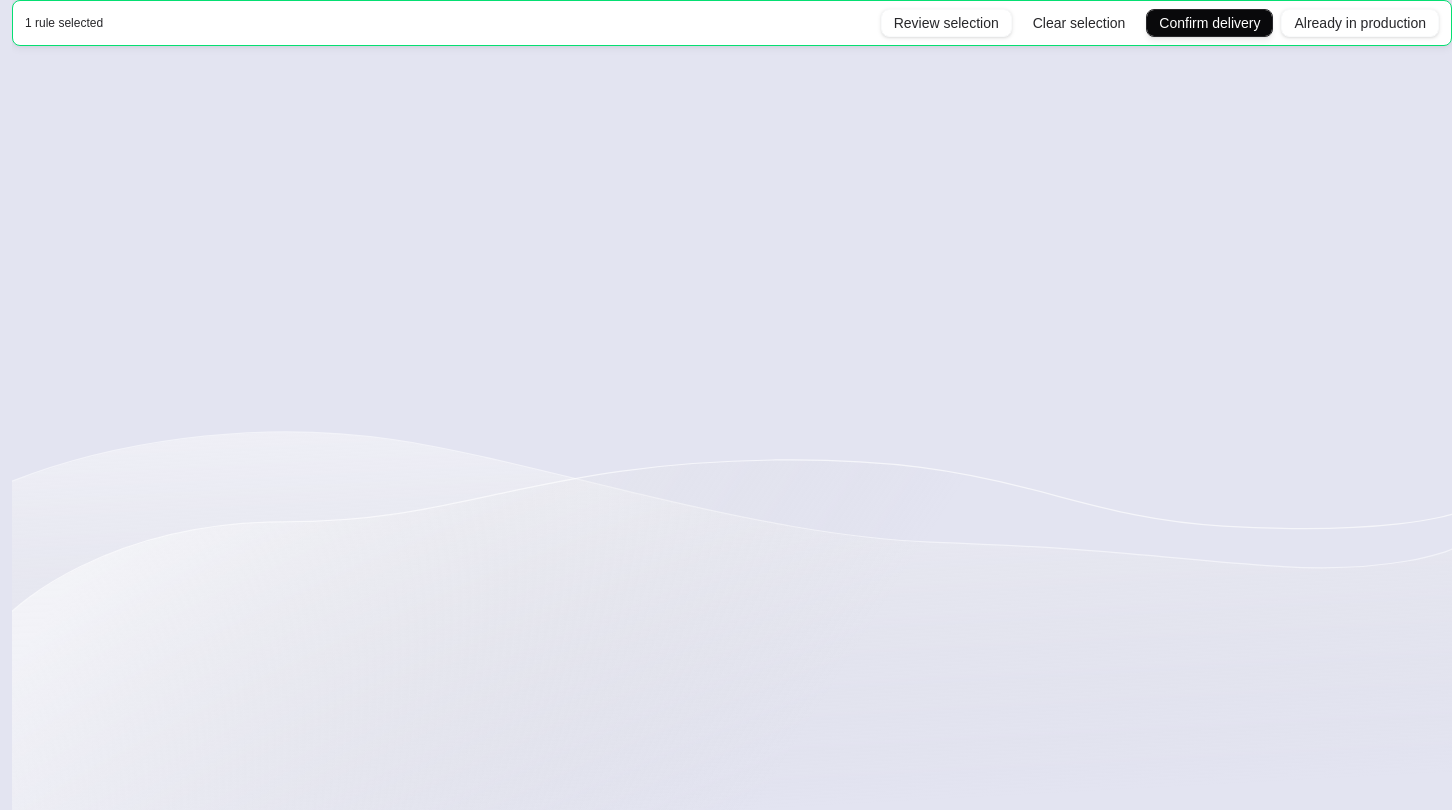
Test: Intent delivery UI › stops an older-rule delivery when a newer rule is still effective
Step 1. Click the button "Confirm delivery" → (1210,23), box [1146,9,1273,37]
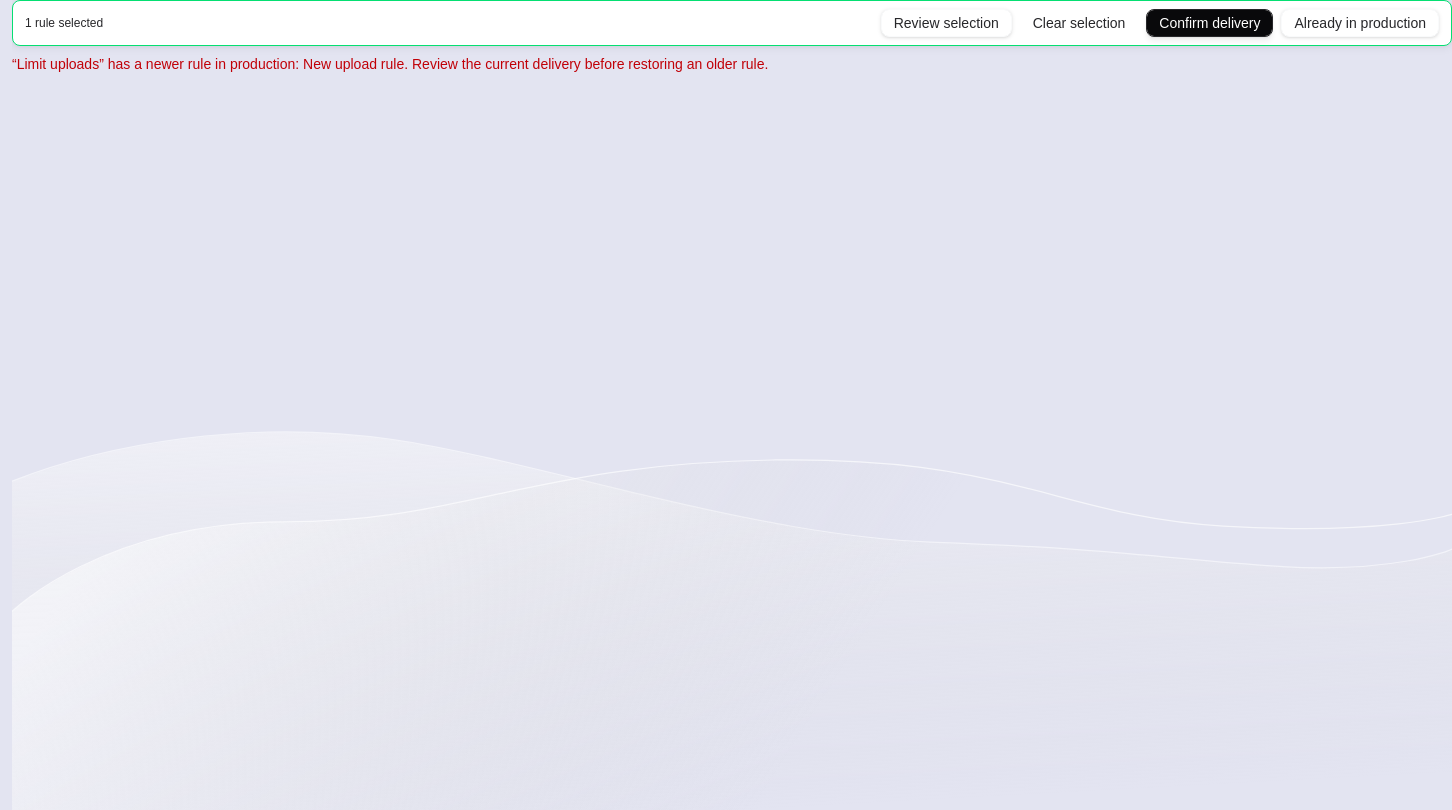
Result: the text "has a newer rule in production: New upload rule" is shown at [12,56,768,72]
